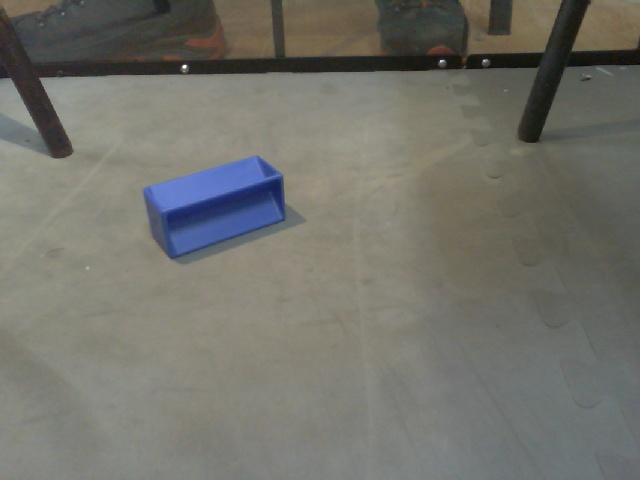BlueSample: (142, 152, 288, 260)
